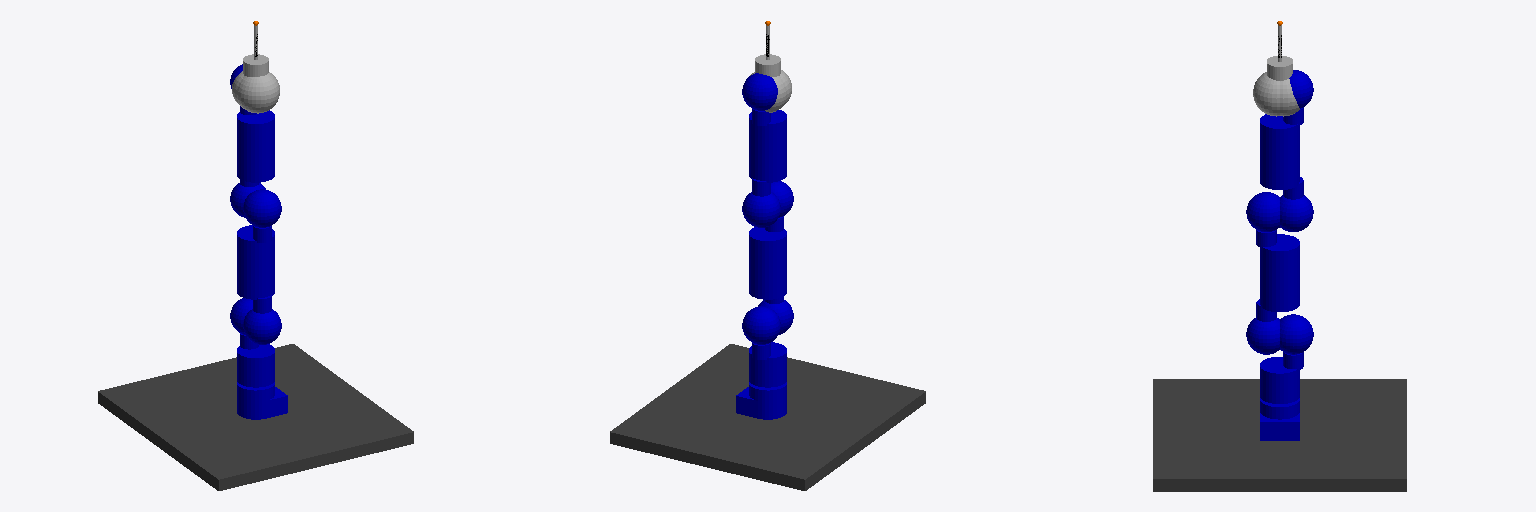
The robot description file, URDF, robot "lwr":
<?xml version="1.0" ?>
<!-- =================================================================================== -->
<!-- |    This document was autogenerated by xacro from kuka_lwr_arm.urdf.xml          | -->
<!-- |    EDITING THIS FILE BY HAND IS NOT RECOMMENDED                                 | -->
<!-- =================================================================================== -->
<robot name="lwr" xmlns:controller="http://playerstage.sourceforge.net/gazebo/xmlschema/#controller" xmlns:interface="http://playerstage.sourceforge.net/gazebo/xmlschema/#interface" xmlns:sensor="http://playerstage.sourceforge.net/gazebo/xmlschema/#sensor" xmlns:xacro="http://playerstage.sourceforge.net/gazebo/xmlschema/#interface">
  <material name="DarkGrey">
    <color rgba="0.3 0.3 0.3 1.0"/>
  </material>
  <material name="Red">
    <color rgba="0.3 0.3 0.3 1.0"/>
  </material>
  <material name="Black">
    <color rgba="0 0 0 1.0"/>
  </material>
  <material name="Orange">
    <color rgba="1.0 0.487 0 1.0"/>
  </material>
  <material name="Silver">
    <color rgba="1.0 1.0 1.0 1.0"/>
  </material>
  <material name="Grey">
    <color rgba="0.7 0.7 0.7 1.0"/>
  </material>
  <material name="Blue">
    <color rgba="0.0 0.0 0.8 1.0"/>
  </material>
  <material name="HandGray">
    <color rgba="0.953 0.996 0.694 1.0"/>
  </material>
  <material name="SickBlue">
    <color rgba="0.3058 0.5921 0.7294 1.0"/>
  </material>
  <link name="world_frame">
    <visual>
      <origin rpy="0 0 0" xyz="0 0 -0.02"/>
      <geometry>
        <box size="0.7 0.75 0.04"/>
      </geometry>
      <material name="DarkGrey"/>
    </visual>
    <collision>
      <origin rpy="0 0 0" xyz="0 0 -0.02"/>
      <geometry>
        <box size="0.7 0.75 0.04"/>
      </geometry>
    </collision>
  </link>
  <joint name="world_frame_lwr_arm_base_joint" type="fixed">
    <origin rpy="0 0 0" xyz="0 0 0"/>
    <parent link="world_frame"/>
    <child link="base"/>
  </joint>
  <link name="base">
    <inertial>
      <mass value="2.0"/>
      <origin xyz="0 0 0.055"/>
      <inertia ixx="0.00381666666667" ixy="0" ixz="0" iyy="0.0036" iyz="0" izz="0.00381666666667"/>
    </inertial>
    <visual>
      <origin rpy="0 0 0" xyz="0.04 0 0.03"/>
      <geometry>
        <box size="0.08 0.12 0.06"/>
      </geometry>
      <material name="Blue"/>
    </visual>
    <visual>
      <origin rpy="0 0 0" xyz="0 0 0.05"/>
      <geometry>
        <cylinder length="0.1" radius="0.06"/>
      </geometry>
      <material name="Blue"/>
    </visual>
    <collision>
      <origin rpy="0 0 0" xyz="0.04 0 0.03"/>
      <geometry>
        <box size="0.08 0.12 0.06"/>
      </geometry>
    </collision>
    <collision>
      <origin rpy="0 0 0" xyz="0 0 0.05"/>
      <geometry>
        <cylinder length="0.1" radius="0.06"/>
      </geometry>
    </collision>
  </link>
  <joint name="lwr_arm_0_joint" type="revolute">
    <origin rpy="0 0 3.14159265359" xyz="0 0 0.11"/>
    <axis xyz="0 0 1"/>
    <limit effort="204" lower="-2.96705972839" upper="2.96705972839" velocity="1.91986217719"/>
    <safety_controller k_position="30" k_velocity="30" soft_lower_limit="-2.93215314335" soft_upper_limit="2.93215314335"/>
    <dynamics damping="1.0"/>
    <parent link="base"/>
    <child link="lwr_arm_1_link"/>
  </joint>
  <link name="lwr_arm_1_link">
    <inertial>
      <mass value="2.0"/>
      <origin rpy="0 0 0" xyz="0 -0.06 0.130"/>
      <inertia ixx="0.0136666666667" ixy="0" ixz="0" iyy="0.003" iyz="0" izz="0.0118666666667"/>
    </inertial>
    <visual>
      <origin rpy="0 0 0" xyz="0 0 0.05"/>
      <geometry>
        <cylinder length="0.1" radius="0.06"/>
      </geometry>
      <material name="Blue"/>
    </visual>
    <visual>
      <origin rpy="0 0 0" xyz="0 -0.04 0.12"/>
      <geometry>
        <cylinder length="0.05" radius="0.03"/>
      </geometry>
      <material name="Blue"/>
    </visual>
    <visual>
      <origin rpy="0 0 0" xyz="0 -0.04 0.2"/>
      <geometry>
        <sphere radius="0.06"/>
      </geometry>
      <material name="Blue"/>
    </visual>
    <collision>
      <origin rpy="0 0 0" xyz="0 0 0.05"/>
      <geometry>
        <cylinder length="0.1" radius="0.06"/>
      </geometry>
    </collision>
    <collision>
      <origin rpy="0 0 0" xyz="0 -0.04 0.2"/>
      <geometry>
        <sphere radius="0.06"/>
      </geometry>
    </collision>
  </link>
  <!-- Third segment of the arm. Joint along y-axis -->
  <joint name="lwr_arm_1_joint" type="revolute">
    <origin rpy="0 0 0" xyz="0 0 0.2"/>
    <axis xyz="0 1 0"/>
    <limit effort="306" lower="-2.09439510239" upper="2.09439510239" velocity="1.91986217719"/>
    <safety_controller k_position="30" k_velocity="30" soft_lower_limit="-2.05948851735" soft_upper_limit="2.05948851735"/>
    <dynamics damping="1.0" friction="10"/>
    <parent link="lwr_arm_1_link"/>
    <child link="lwr_arm_2_link"/>
  </joint>
  <link name="lwr_arm_2_link">
    <inertial>
      <mass value="2.0"/>
      <origin rpy="0 0 0" xyz="0 0.06 0.07"/>
      <inertia ixx="0.0136666666667" ixy="0" ixz="0" iyy="0.003" iyz="0" izz="0.0118666666667"/>
    </inertial>
    <visual>
      <origin rpy="0 0 0" xyz="0 0 0.15"/>
      <geometry>
        <cylinder length="0.1" radius="0.06"/>
      </geometry>
      <material name="Blue"/>
    </visual>
    <visual>
      <origin rpy="0 0 0" xyz="0 0.04 0.08"/>
      <geometry>
        <cylinder length="0.05" radius="0.03"/>
      </geometry>
      <material name="Blue"/>
    </visual>
    <visual>
      <origin rpy="0 0 0" xyz="0 0.04 0"/>
      <geometry>
        <sphere radius="0.06"/>
      </geometry>
      <material name="Blue"/>
    </visual>
    <collision>
      <origin rpy="0 0 0" xyz="0 0 0.15"/>
      <geometry>
        <cylinder length="0.1" radius="0.06"/>
      </geometry>
    </collision>
    <collision>
      <origin rpy="0 0 0" xyz="0 0.04 0"/>
      <geometry>
        <sphere radius="0.06"/>
      </geometry>
    </collision>
  </link>
  <joint name="lwr_arm_2_joint" type="revolute">
    <origin rpy="0 0 0" xyz="0 0 0.20"/>
    <axis xyz="0 0 1"/>
    <limit effort="204" lower="-2.96705972839" upper="2.96705972839" velocity="2.26892802759"/>
    <safety_controller k_position="30" k_velocity="30" soft_lower_limit="-2.93215314335" soft_upper_limit="2.93215314335"/>
    <dynamics damping="1.0"/>
    <parent link="lwr_arm_2_link"/>
    <child link="lwr_arm_3_link"/>
  </joint>
  <link name="lwr_arm_3_link">
    <inertial>
      <mass value="2.0"/>
      <origin rpy="0 0 0" xyz="0 0.06 0.130"/>
      <inertia ixx="0.0136666666667" ixy="0" ixz="0" iyy="0.003" iyz="0" izz="0.0118666666667"/>
    </inertial>
    <visual>
      <origin rpy="0 0 0" xyz="0 0 0.05"/>
      <geometry>
        <cylinder length="0.1" radius="0.06"/>
      </geometry>
      <material name="Blue"/>
    </visual>
    <visual>
      <origin rpy="0 0 0" xyz="0 0.04 0.12"/>
      <geometry>
        <cylinder length="0.05" radius="0.03"/>
      </geometry>
      <material name="Blue"/>
    </visual>
    <visual>
      <origin rpy="0 0 0" xyz="0 0.04 0.2"/>
      <geometry>
        <sphere radius="0.06"/>
      </geometry>
      <material name="Blue"/>
    </visual>
    <collision>
      <origin rpy="0 0 0" xyz="0 0 0.05"/>
      <geometry>
        <cylinder length="0.1" radius="0.06"/>
      </geometry>
    </collision>
    <collision>
      <origin rpy="0 0 0" xyz="0 0.04 0.2"/>
      <geometry>
        <sphere radius="0.06"/>
      </geometry>
    </collision>
  </link>
  <!-- fifth element of the arm. x-axis -->
  <joint name="lwr_arm_3_joint" type="revolute">
    <origin rpy="0 0 0" xyz="0 0 0.20"/>
    <axis xyz="0 -1 0"/>
    <limit effort="306" lower="-2.09439510239" upper="2.09439510239" velocity="2.26892802759"/>
    <safety_controller k_position="30" k_velocity="30" soft_lower_limit="-2.05948851735" soft_upper_limit="2.05948851735"/>
    <dynamics damping="1.0"/>
    <parent link="lwr_arm_3_link"/>
    <child link="lwr_arm_4_link"/>
  </joint>
  <link name="lwr_arm_4_link">
    <inertial>
      <mass value="2.0"/>
      <origin rpy="0 0 0" xyz="0 -0.06 0.07"/>
      <inertia ixx="0.0136666666667" ixy="0" ixz="0" iyy="0.003" iyz="0" izz="0.0118666666667"/>
    </inertial>
    <visual>
      <origin rpy="0 0 0" xyz="0 0 0.15"/>
      <geometry>
        <cylinder length="0.1" radius="0.06"/>
      </geometry>
      <material name="Blue"/>
    </visual>
    <visual>
      <origin rpy="0 0 0" xyz="0 -0.04 0.08"/>
      <geometry>
        <cylinder length="0.05" radius="0.03"/>
      </geometry>
      <material name="Blue"/>
    </visual>
    <visual>
      <origin rpy="0 0 0" xyz="0 -0.04 0"/>
      <geometry>
        <sphere radius="0.06"/>
      </geometry>
      <material name="Blue"/>
    </visual>
    <collision>
      <origin rpy="0 0 0" xyz="0 0 0.15"/>
      <geometry>
        <cylinder length="0.1" radius="0.06"/>
      </geometry>
    </collision>
    <collision>
      <origin rpy="0 0 0" xyz="0 -0.04 0"/>
      <geometry>
        <sphere radius="0.06"/>
      </geometry>
    </collision>
  </link>
  <joint name="lwr_arm_4_joint" type="revolute">
    <origin rpy="0 0 0" xyz="0 0 0.20"/>
    <axis xyz="0 0 1"/>
    <limit effort="204" lower="-2.96705972839" upper="2.96705972839" velocity="2.26892802759"/>
    <safety_controller k_position="30" k_velocity="30" soft_lower_limit="-2.93215314335" soft_upper_limit="2.93215314335"/>
    <dynamics damping="1.0"/>
    <parent link="lwr_arm_4_link"/>
    <child link="lwr_arm_5_link"/>
  </joint>
  <link name="lwr_arm_5_link">
    <inertial>
      <mass value="2.0"/>
      <origin rpy="0 0 0" xyz="0 0 0.124"/>
      <inertia ixx="0.0126506666667" ixy="0" ixz="0" iyy="0.003" iyz="0" izz="0.0108506666667"/>
    </inertial>
    <visual>
      <origin rpy="0 0 0" xyz="0 0 0.05"/>
      <geometry>
        <cylinder length="0.1" radius="0.06"/>
      </geometry>
      <material name="Blue"/>
    </visual>
    <visual>
      <origin rpy="0 0 0" xyz="0 -0.04 0.12"/>
      <geometry>
        <cylinder length="0.05" radius="0.03"/>
      </geometry>
      <material name="Blue"/>
    </visual>
    <visual>
      <origin rpy="0 0 0" xyz="0 -0.04 0.2"/>
      <geometry>
        <sphere radius="0.06"/>
      </geometry>
      <material name="Blue"/>
    </visual>
    <collision>
      <origin rpy="0 0 0" xyz="0 0 0.05"/>
      <geometry>
        <cylinder length="0.1" radius="0.06"/>
      </geometry>
    </collision>
    <collision>
      <origin rpy="0 0 0" xyz="0 -0.04 0.2"/>
      <geometry>
        <sphere radius="0.06"/>
      </geometry>
    </collision>
  </link>
  <joint name="lwr_arm_5_joint" type="revolute">
    <origin rpy="0 0 0" xyz="0 0 0.19"/>
    <axis xyz="0 1 0"/>
    <limit effort="306" lower="-2.09439510239" upper="2.09439510239" velocity="3.14159265359"/>
    <safety_controller k_position="30" k_velocity="30" soft_lower_limit="-2.05948851735" soft_upper_limit="2.05948851735"/>
    <dynamics damping="1.0"/>
    <parent link="lwr_arm_5_link"/>
    <child link="lwr_arm_6_link"/>
  </joint>
  <link name="lwr_arm_6_link">
    <inertial>
      <mass value="0.2"/>
      <origin rpy="0 0 0" xyz="0 0 0.0625"/>
      <inertia ixx="0.000520833333333" ixy="0" ixz="0" iyy="0.000520833333333" iyz="0" izz="0.000520833333333"/>
    </inertial>
    <visual>
      <origin rpy="0 0 0" xyz="0 0.01 0"/>
      <geometry>
        <sphere radius="0.07"/>
      </geometry>
      <material name="Grey"/>
    </visual>
    <visual>
      <origin rpy="0 0 0" xyz="0 -0.01 0"/>
      <geometry>
        <sphere radius="0.07"/>
      </geometry>
    </visual>
    <collision>
      <origin rpy="0 0 0" xyz="0 0.01 0"/>
      <geometry>
        <sphere radius="0.07"/>
      </geometry>
      <material name="Grey"/>
    </collision>
    <collision>
      <origin rpy="0 0 0" xyz="0 -0.01 0"/>
      <geometry>
        <sphere radius="0.07"/>
      </geometry>
    </collision>
  </link>
  <joint name="lwr_arm_6_joint" type="revolute">
    <origin rpy="0 0 3.14159265359" xyz="0 0 0.078"/>
    <axis xyz="0 0 1"/>
    <limit effort="204" lower="-2.96705972839" upper="2.96705972839" velocity="3.14159265359"/>
    <safety_controller k_position="30" k_velocity="30" soft_lower_limit="-2.93215314335" soft_upper_limit="2.93215314335"/>
    <dynamics damping="1.0"/>
    <parent link="lwr_arm_6_link"/>
    <child link="lwr_arm_7_link"/>
  </joint>
  <link name="lwr_arm_7_link">
    <inertial>
      <mass value="0.2"/>
      <origin xyz="0 0 0"/>
      <inertia ixx="0.0333333333333" ixy="0" ixz="0" iyy="0.0333333333333" iyz="0" izz="0.0333333333333"/>
    </inertial>
    <visual>
      <origin rpy="0 0 -0.785398163397" xyz="0 0 0"/>
      <geometry>
        <cylinder length="0.05" radius="0.04"/>
      </geometry>
      <material name="Grey"/>
    </visual>
    <collision>
      <origin rpy="0 0 -0.785398163397" xyz="0 0 0"/>
      <geometry>
        <cylinder length="0.05" radius="0.04"/>
      </geometry>
    </collision>
  </link>
  <joint name="pen_base_joint" type="fixed">
    <origin rpy="0 0 0" xyz="0 0 0.075"/>
    <parent link="lwr_arm_7_link"/>
    <child link="pen_base_link"/>
  </joint>
  <link name="pen_base_link">
    <inertial>
      <origin rpy="0 0 0" xyz="0 0 0"/>
      <mass value="1"/>
      <inertia ixx="0.01" ixy="0" ixz="0" iyy="0.01" iyz="0" izz="0.01"/>
    </inertial>
    <visual>
      <origin rpy="0 0 0" xyz="0 0 0"/>
      <geometry>
        <cylinder length="0.15" radius="0.005"/>
      </geometry>
      <material name="Grey"/>
    </visual>
    <collision>
      <origin rpy="0 0 0" xyz="0 0 0"/>
      <geometry>
        <cylinder length="0.15" radius="0.005"/>
      </geometry>
    </collision>
  </link>
  <joint name="pen_tip_joint" type="fixed">
    <origin rpy="0 0 0" xyz="0 0 0.075"/>
    <parent link="pen_base_link"/>
    <child link="pen_tip_link"/>
  </joint>
  <link name="pen_tip_link">
    <inertial>
      <origin rpy="0 0 0" xyz="0 0 0"/>
      <mass value="1"/>
      <inertia ixx="0.01" ixy="0" ixz="0" iyy="0.01" iyz="0" izz="0.01"/>
    </inertial>
    <visual>
      <origin rpy="0 0 0" xyz="0 0 0"/>
      <geometry>
        <sphere radius="0.008"/>
      </geometry>
      <material name="Orange"/>
    </visual>
  </link>
  <joint name="pen_ori_joint" type="fixed">
    <origin rpy="0 0 0" xyz="0 0 0.075"/>
    <parent link="lwr_arm_7_link"/>
    <child link="pen_ori_link"/>
  </joint>
  <link name="pen_ori_link">
    <inertial>
      <origin rpy="0 0 0" xyz="0 0 0"/>
      <mass value="1"/>
      <inertia ixx="0.01" ixy="0" ixz="0" iyy="0.01" iyz="0" izz="0.01"/>
    </inertial>
    <visual>
      <origin rpy="0 0 0" xyz="0 0 0"/>
      <geometry>
        <cylinder length="0.075" radius="0.005"/>
      </geometry>
      <material name="Non">
        <color rgba="0 0 0 0"/>
      </material>
    </visual>
  </link>
</robot>

--- Facts derived from the render (not from the file) ---
3 views of the same robot in one strip: view 1: azimuth 30°, elevation 25°; view 2: azimuth 150°, elevation 25°; view 3: azimuth 270°, elevation 25° (orthographic).
Model lwr with 12 links and 11 joints (7 revolute, 4 fixed), rooted at world_frame, posed all joints at 0.
Visible links, largest first — view 1: world_frame, lwr_arm_3_link, lwr_arm_2_link, lwr_arm_1_link, lwr_arm_4_link, lwr_arm_5_link, base, lwr_arm_6_link; view 2: world_frame, lwr_arm_1_link, lwr_arm_5_link, lwr_arm_4_link, lwr_arm_3_link, lwr_arm_2_link, base, lwr_arm_6_link; view 3: world_frame, lwr_arm_3_link, lwr_arm_1_link, lwr_arm_4_link, lwr_arm_2_link, lwr_arm_5_link, base, lwr_arm_6_link, lwr_arm_7_link.
Link boxes in pixels (x1,y1,x2,y2): world_frame: [98, 344, 413, 490]; lwr_arm_3_link: [237, 189, 281, 270]; lwr_arm_2_link: [237, 265, 281, 344]; lwr_arm_1_link: [230, 298, 274, 387]; lwr_arm_4_link: [230, 148, 274, 217]; lwr_arm_5_link: [230, 64, 274, 153]; base: [237, 382, 287, 419]; lwr_arm_6_link: [232, 71, 279, 113]; world_frame: [610, 344, 925, 490]; lwr_arm_1_link: [742, 306, 786, 387]; lwr_arm_5_link: [742, 73, 786, 153]; lwr_arm_4_link: [742, 148, 786, 227]; lwr_arm_3_link: [749, 181, 793, 270]; lwr_arm_2_link: [749, 265, 793, 334]; base: [736, 382, 786, 419]; lwr_arm_6_link: [750, 70, 791, 112]; world_frame: [1153, 379, 1406, 491]; lwr_arm_3_link: [1246, 192, 1299, 281]; lwr_arm_1_link: [1260, 314, 1313, 403]; lwr_arm_4_link: [1260, 153, 1313, 231]; lwr_arm_2_link: [1246, 276, 1299, 354]; lwr_arm_5_link: [1260, 70, 1313, 159]; base: [1260, 398, 1299, 440]; lwr_arm_6_link: [1253, 72, 1299, 116]; lwr_arm_7_link: [1267, 56, 1292, 80].
Size in the robot's own frame: 0.7 by 0.75 by 1.38 metres.
Geometry: primitives only (box / cylinder / sphere), no mesh files.